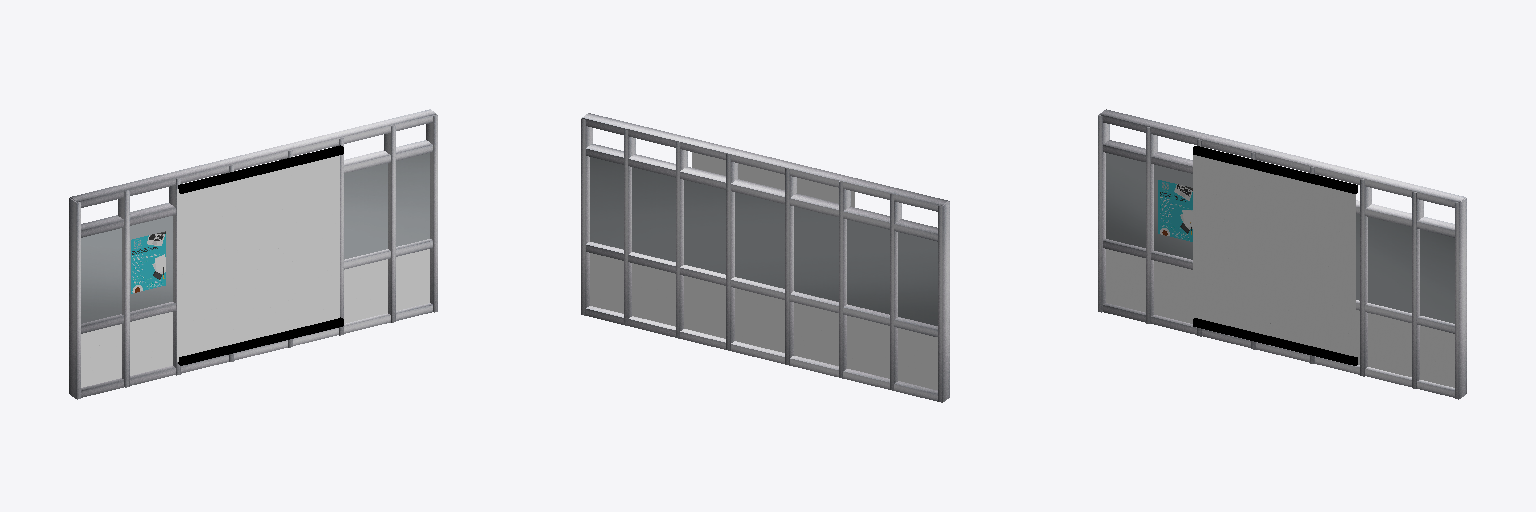
3 views of the same model, side by side, from view 1: azimuth 30°, elevation 25°; view 2: azimuth 150°, elevation 25°; view 3: azimuth 330°, elevation 25° (orthographic).
Visible parts, largest first — view 1: Plane004, Plane001, Plane002, Box008, Box006, Box001, Box009, Plane003, Box007, Box013, Box004, Box012 (+4 smaller); view 2: Plane001, Plane002, Box008, Box009, Box007, Box006, Box001, Plane004, Box002, Box005, Box003, Box004 (+3 smaller); view 3: Plane004, Plane001, Plane002, Box008, Box006, Box002, Box009, Plane003, Box007, Box013, Box011, Box012 (+3 smaller).
Part boxes in pixels (x1,y1,x2,y2): Plane004: (177, 155, 339, 361); Plane001: (81, 153, 429, 323); Plane002: (81, 249, 429, 387); Box008: (70, 109, 436, 207); Box006: (81, 303, 432, 397); Box001: (69, 198, 80, 399); Box009: (81, 140, 432, 237); Plane003: (131, 231, 165, 293); Box007: (81, 239, 432, 333); Box013: (178, 145, 343, 193); Box004: (118, 190, 129, 387); Box012: (384, 125, 395, 322); Plane001: (590, 157, 937, 325); Plane002: (590, 253, 937, 389); Box008: (582, 113, 947, 211); Box009: (586, 144, 937, 241); Box007: (586, 242, 937, 336); Box006: (586, 306, 937, 401); Box001: (938, 201, 949, 402); Plane004: (692, 152, 854, 206); Box002: (581, 118, 592, 315); Box005: (785, 168, 796, 365); Box003: (726, 154, 737, 350); Box004: (890, 194, 901, 390); Plane004: (1193, 155, 1355, 356); Plane001: (1106, 153, 1454, 323); Plane002: (1106, 249, 1454, 387); Box008: (1100, 109, 1465, 207); Box006: (1103, 303, 1454, 397); Box002: (1455, 198, 1466, 399); Box009: (1103, 140, 1454, 237); Plane003: (1158, 180, 1192, 241); Box007: (1103, 239, 1454, 333); Box013: (1193, 146, 1357, 193); Box011: (1360, 179, 1371, 376); Box012: (1412, 192, 1423, 388).
Bounding box in the file's own units: 181 × 94.22 × 10.38.
Materials: 5 (4 with a texture image).